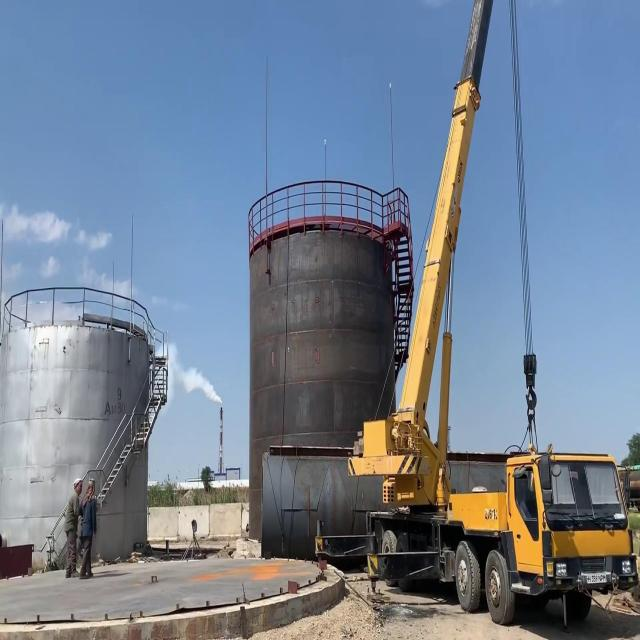crane: (312, 0, 640, 640)
